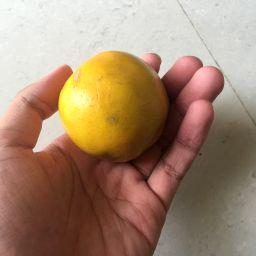Ripe: (59, 51, 163, 159)
